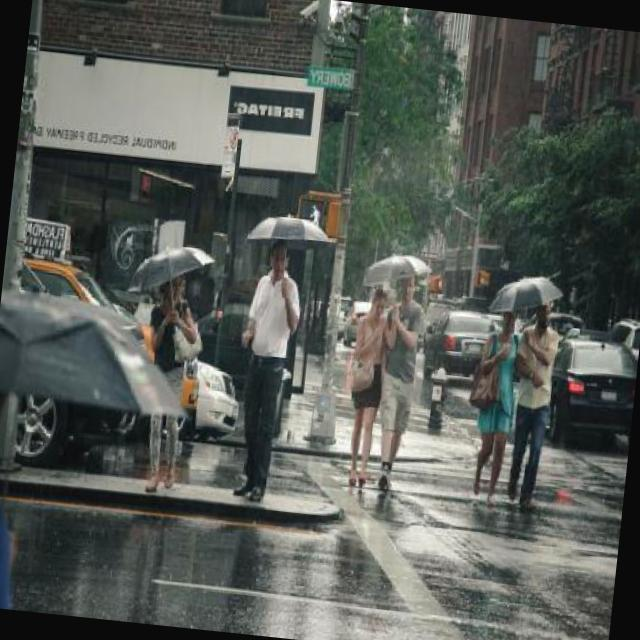Person: (225, 236, 308, 504), (131, 270, 203, 496), (366, 272, 431, 494), (338, 281, 402, 487), (502, 304, 565, 503), (467, 304, 525, 506)
